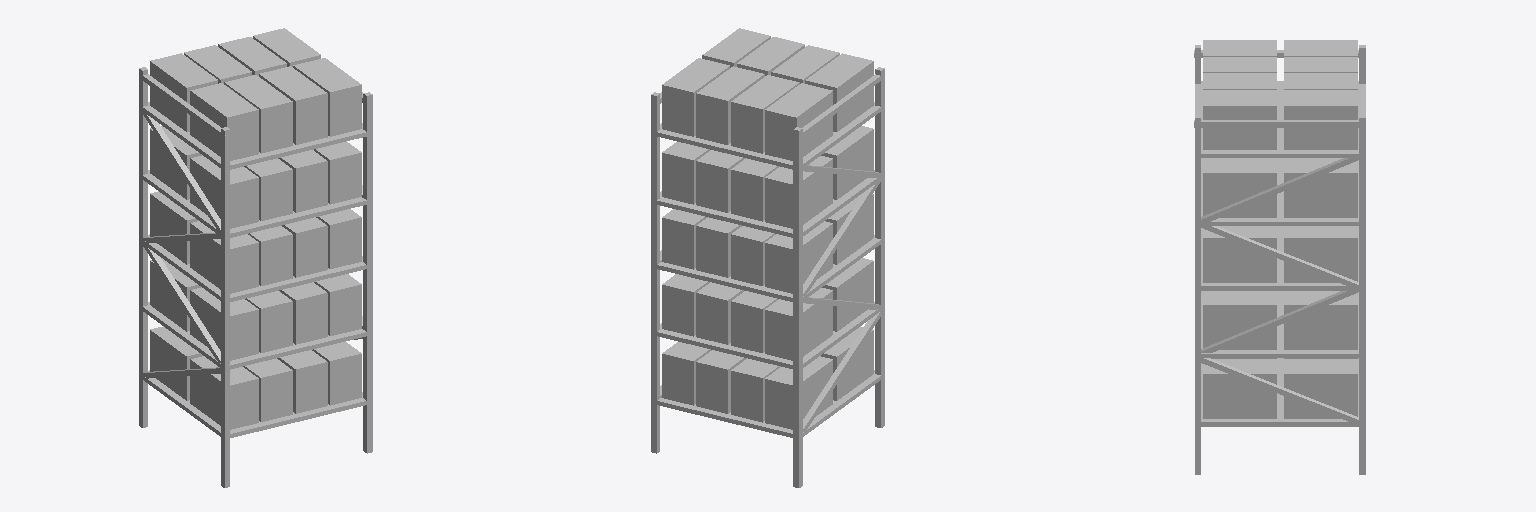
The model's file is container1.obj.
3 renders of one model, left to right at view 1: azimuth 30°, elevation 25°; view 2: azimuth 150°, elevation 25°; view 3: azimuth 270°, elevation 25°, orthographic.
Visible parts, largest first — view 1: 立方体.3, 立方体; view 2: 立方体.3, 立方体; view 3: 立方体.3, 立方体.
Part boxes in pixels (left/top/right/bottom): 立方体.3: left=150, top=28, right=361, bottom=429; 立方体: left=139, top=67, right=372, bottom=487; 立方体.3: left=662, top=28, right=873, bottom=429; 立方体: left=651, top=67, right=884, bottom=487; 立方体.3: left=1203, top=40, right=1357, bottom=418; 立方体: left=1194, top=45, right=1365, bottom=474.
Bounding box in the file's own units: 58.91 × 139 × 58.86.